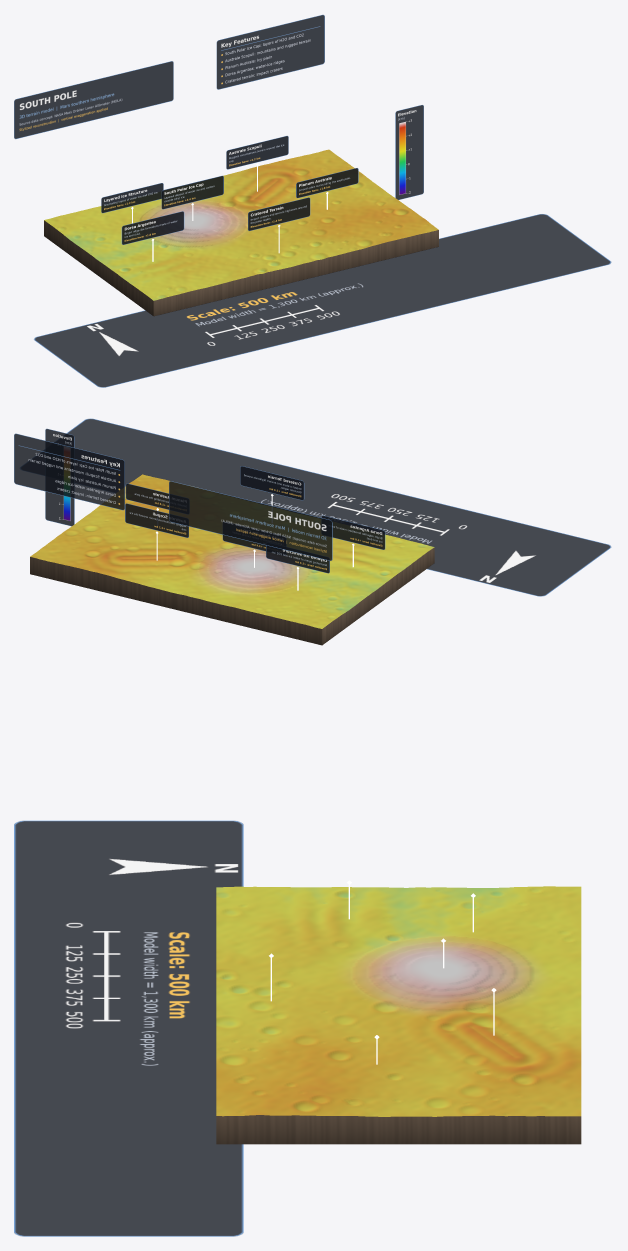
Rendered from 07_South_Pole.glb.
The picture shows the model from 3 angles, top to bottom: view 1: azimuth 30°, elevation 25°; view 2: azimuth 150°, elevation 25°; view 3: azimuth 270°, elevation 25°; orthographic projection. The views are drawn at different scales.
Parts seen in each view (by area): view 1: Info_ScaleAndCompass, Terrain_Surface, Terrain_Walls, Info_Title, Info_KeyFeatures, Info_ElevationLegend, Label_Dorsa Argentea, Label_South Polar Ice Cap, Label_Australe Scopuli, Label_Cratered Terrain, Label_Planum Australe, Label_Layered Ice Structure; view 2: Terrain_Surface, Info_ScaleAndCompass, Terrain_Walls, Info_Title, Info_KeyFeatures, Info_ElevationLegend, Label_Cratered Terrain, Label_Australe Scopuli, Label_Dorsa Argentea, Label_Planum Australe, Label_Layered Ice Structure, Label_South Polar Ice Cap; view 3: Info_ScaleAndCompass, Terrain_Surface, Terrain_Walls.
Boxes of the visible parts, x1,y1,x2,y2 form: Info_ScaleAndCompass: (34, 214, 611, 387); Terrain_Surface: (44, 149, 438, 300); Terrain_Walls: (44, 220, 438, 316); Info_Title: (14, 61, 173, 138); Info_KeyFeatures: (216, 14, 324, 89); Info_ElevationLegend: (395, 105, 423, 199); Label_Dorsa Argentea: (121, 211, 184, 244); Label_South Polar Ice Cap: (161, 175, 223, 209); Label_Australe Scopuli: (226, 136, 288, 169); Label_Cratered Terrain: (248, 197, 310, 230); Label_Planum Australe: (296, 168, 358, 198); Label_Layered Ice Structure: (101, 183, 163, 213); Terrain_Surface: (30, 474, 434, 628); Info_ScaleAndCompass: (20, 418, 611, 596); Terrain_Walls: (30, 547, 434, 645); Info_Title: (169, 481, 332, 560); Info_KeyFeatures: (14, 433, 124, 510); Info_ElevationLegend: (45, 428, 74, 526); Label_Cratered Terrain: (240, 466, 304, 500); Label_Australe Scopuli: (125, 503, 188, 537); Label_Dorsa Argentea: (321, 515, 385, 549); Label_Planum Australe: (125, 483, 188, 513); Label_Layered Ice Structure: (266, 543, 329, 573); Label_South Polar Ice Cap: (222, 522, 285, 551); Info_ScaleAndCompass: (14, 820, 243, 1236); Terrain_Surface: (216, 886, 581, 1116); Terrain_Walls: (216, 1115, 581, 1144).
Bounding box in the file's own units: 18 × 4.81 × 10.97.
12 materials, 10 textured.
